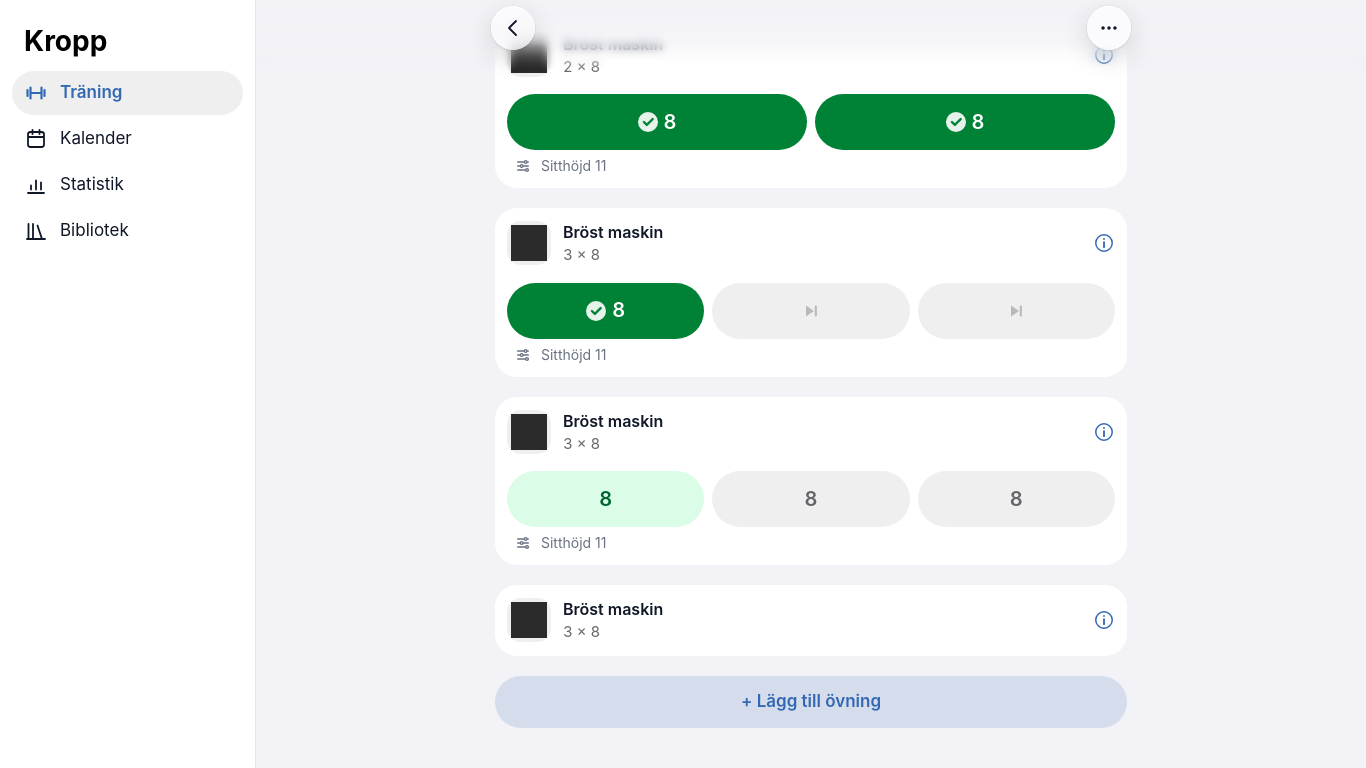
Test: shows only the top row of exercises neither current nor done
The image size is (1366, 768).
(page scrolled)
What coordinates should you click on to do the following:
click the 4th button with test id "edit"
I would click on:
 (811, 620)
Its box is [501,591,1121,650].
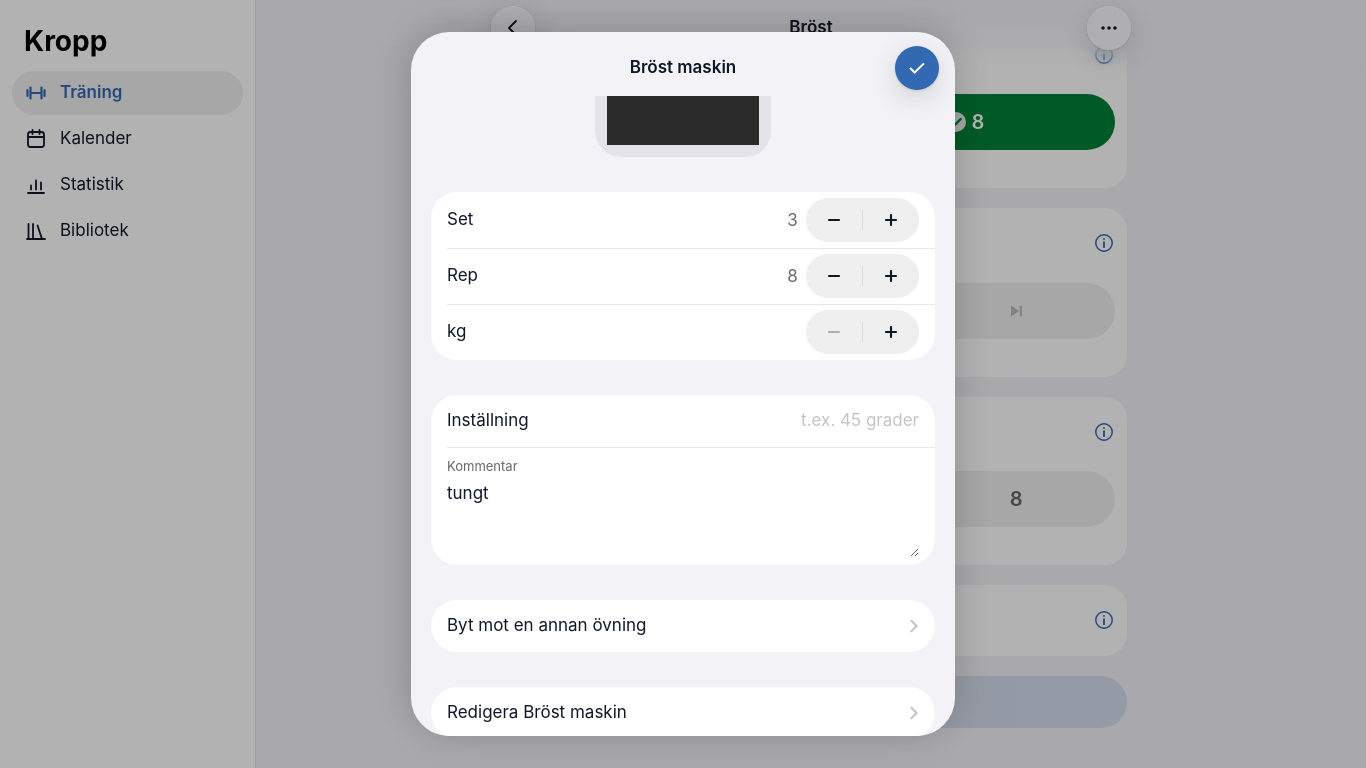
Now the element with test id "editor" is shown, box [431,96,935,736]
